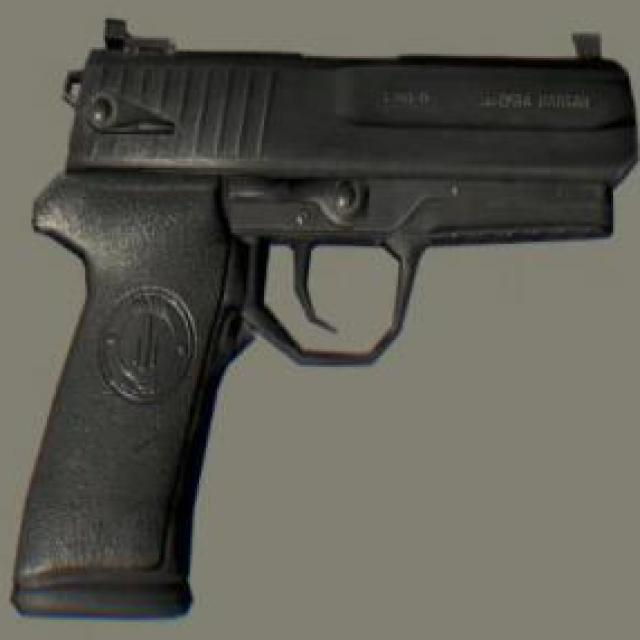pistol: (10, 13, 633, 626)
